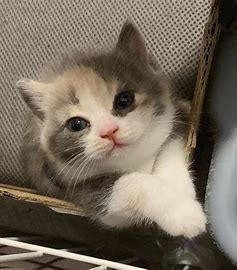cat: (11, 17, 230, 248)
